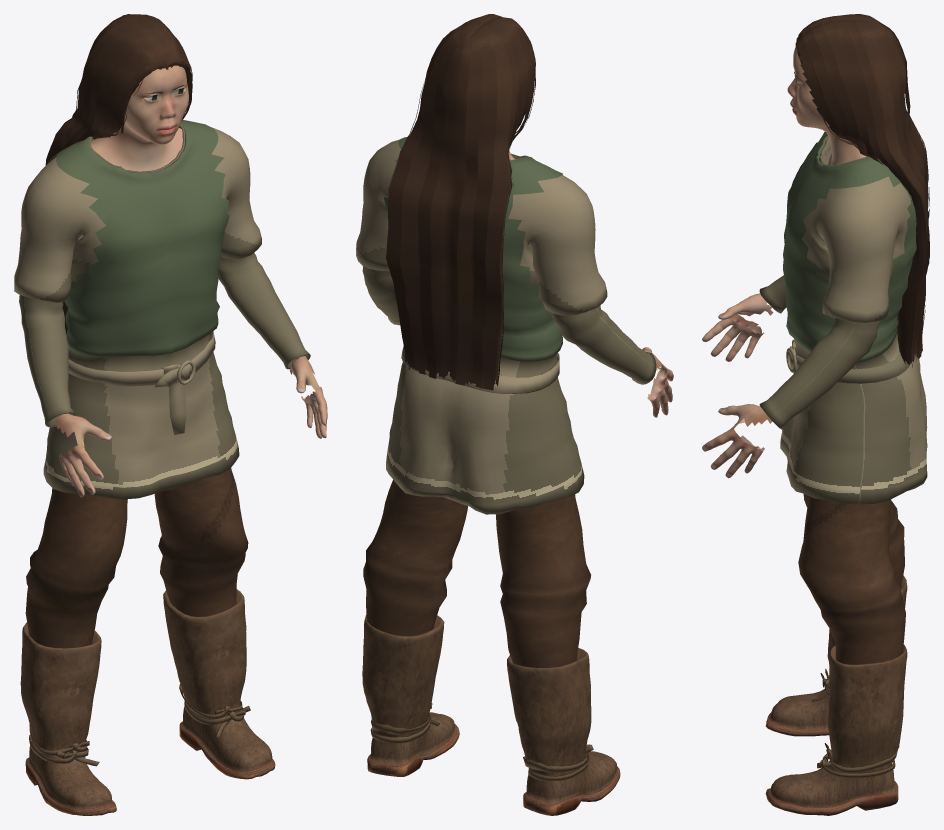
Rendered from orin-work-vest.glb.
3 renders of one model, left to right at view 1: azimuth 30°, elevation 25°; view 2: azimuth 150°, elevation 25°; view 3: azimuth 270°, elevation 25°, orthographic.
Visible parts, largest first — view 1: orin-work-vest runtime mesh; view 2: orin-work-vest runtime mesh; view 3: orin-work-vest runtime mesh.
Boxes of the visible parts, <box> form: orin-work-vest runtime mesh: <box>14,14,327,815</box>; orin-work-vest runtime mesh: <box>356,14,673,815</box>; orin-work-vest runtime mesh: <box>702,14,929,815</box>.
Bounding box in the file's own units: 0.6807 × 1.85 × 0.512.
Materials: 9 (7 with a texture image).
